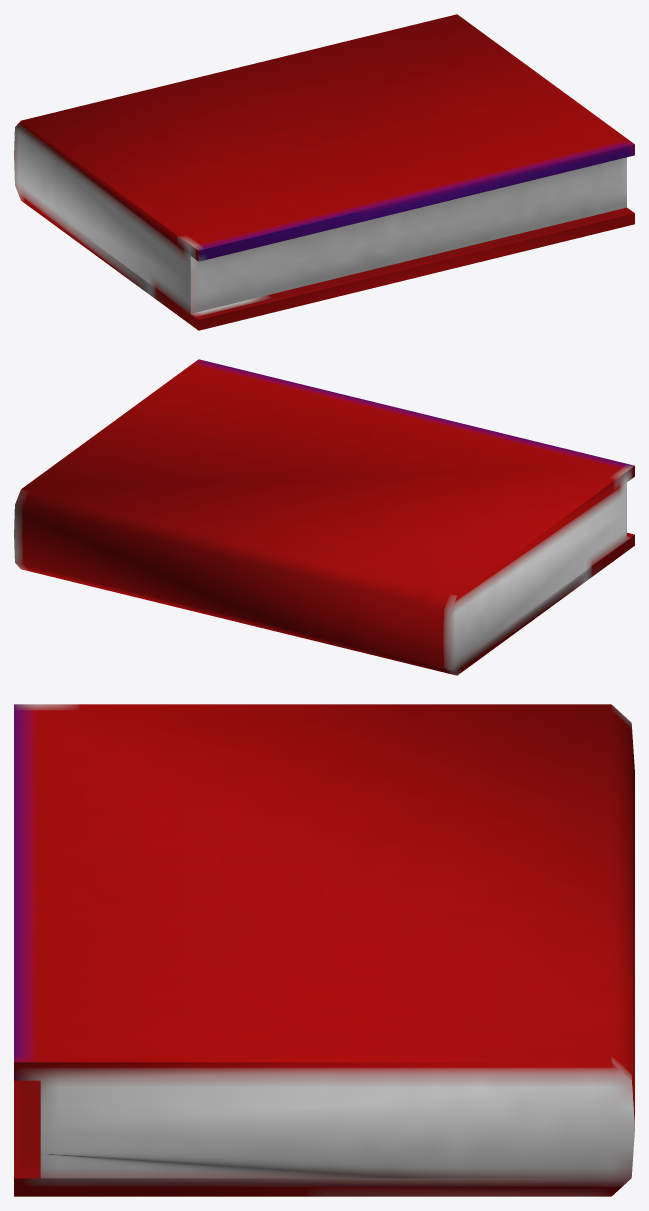
Rendered from Prop_118_Closedbook.fbx.
The picture shows the model from 3 angles, top to bottom: view 1: azimuth 30°, elevation 25°; view 2: azimuth 150°, elevation 25°; view 3: azimuth 270°, elevation 25°; orthographic projection. The views are drawn at different scales.
Visible parts, largest first — view 1: Prop_118_Closedbook; view 2: Prop_118_Closedbook; view 3: Prop_118_Closedbook.
Part boxes in pixels (x1,y1,x2,y2): Prop_118_Closedbook: (14,14,634,330); Prop_118_Closedbook: (14,359,634,675); Prop_118_Closedbook: (14,704,634,1196).
Size of the model in its own units: 0.3 by 0.0525 by 0.22.
1 material, 1 textured.
